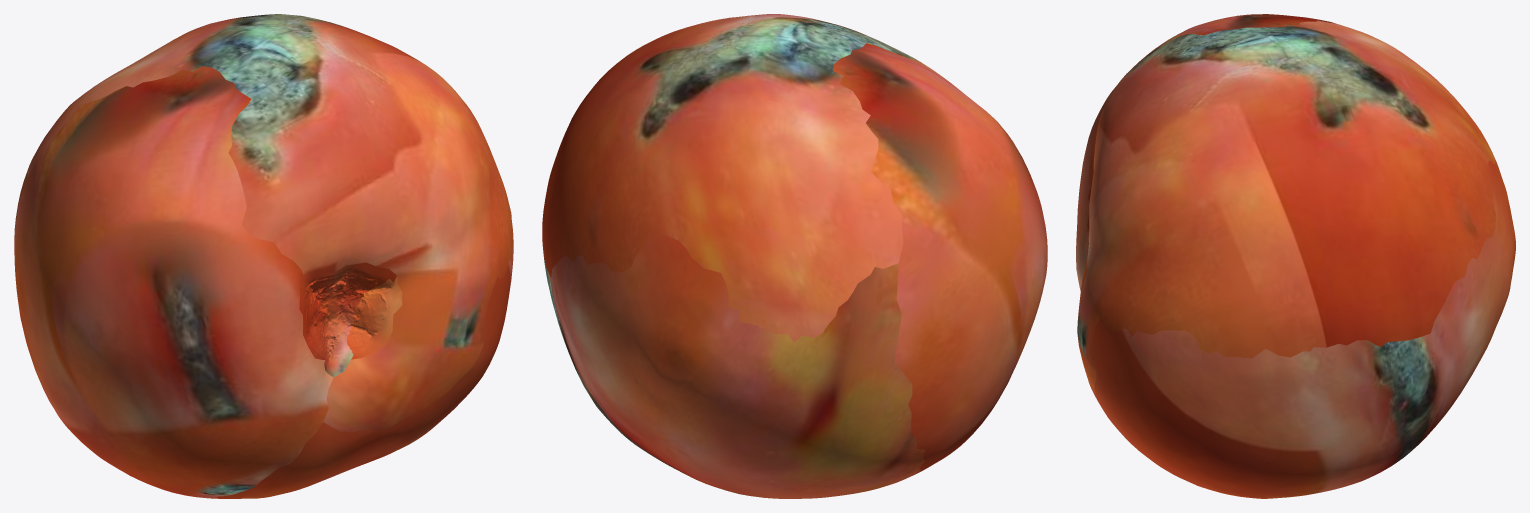
Rendered from tomatorotten3.glb.
The picture shows the model from 3 angles, left to right: view 1: azimuth 30°, elevation 25°; view 2: azimuth 150°, elevation 25°; view 3: azimuth 270°, elevation 25°; orthographic projection.
Visible parts, largest first — view 1: tomatoripe2.004; view 2: tomatoripe2.004; view 3: tomatoripe2.004.
Boxes of the visible parts, x1,y1,x2,y2 form: tomatoripe2.004: [14, 14, 513, 498]; tomatoripe2.004: [542, 14, 1047, 498]; tomatoripe2.004: [1076, 14, 1515, 498].
Size of the model in its own units: 0.0536 by 0.0513 by 0.0469.
1 material, 1 textured.
